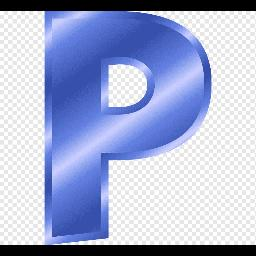p: (42, 11, 216, 245)
